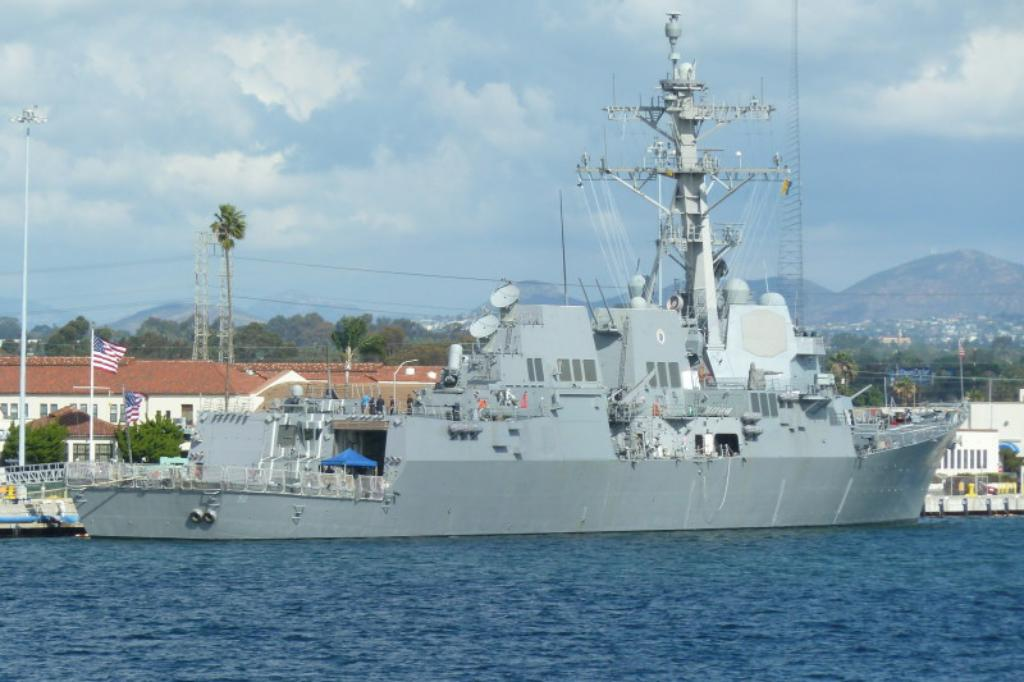Warship: (58, 11, 976, 539)
